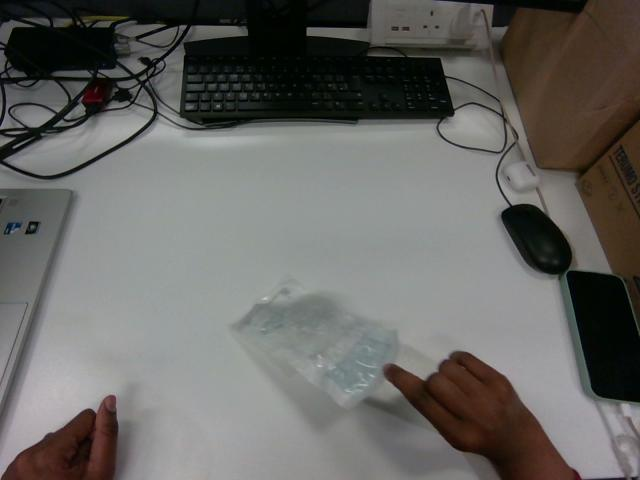gallipot: (233, 280, 397, 407)
